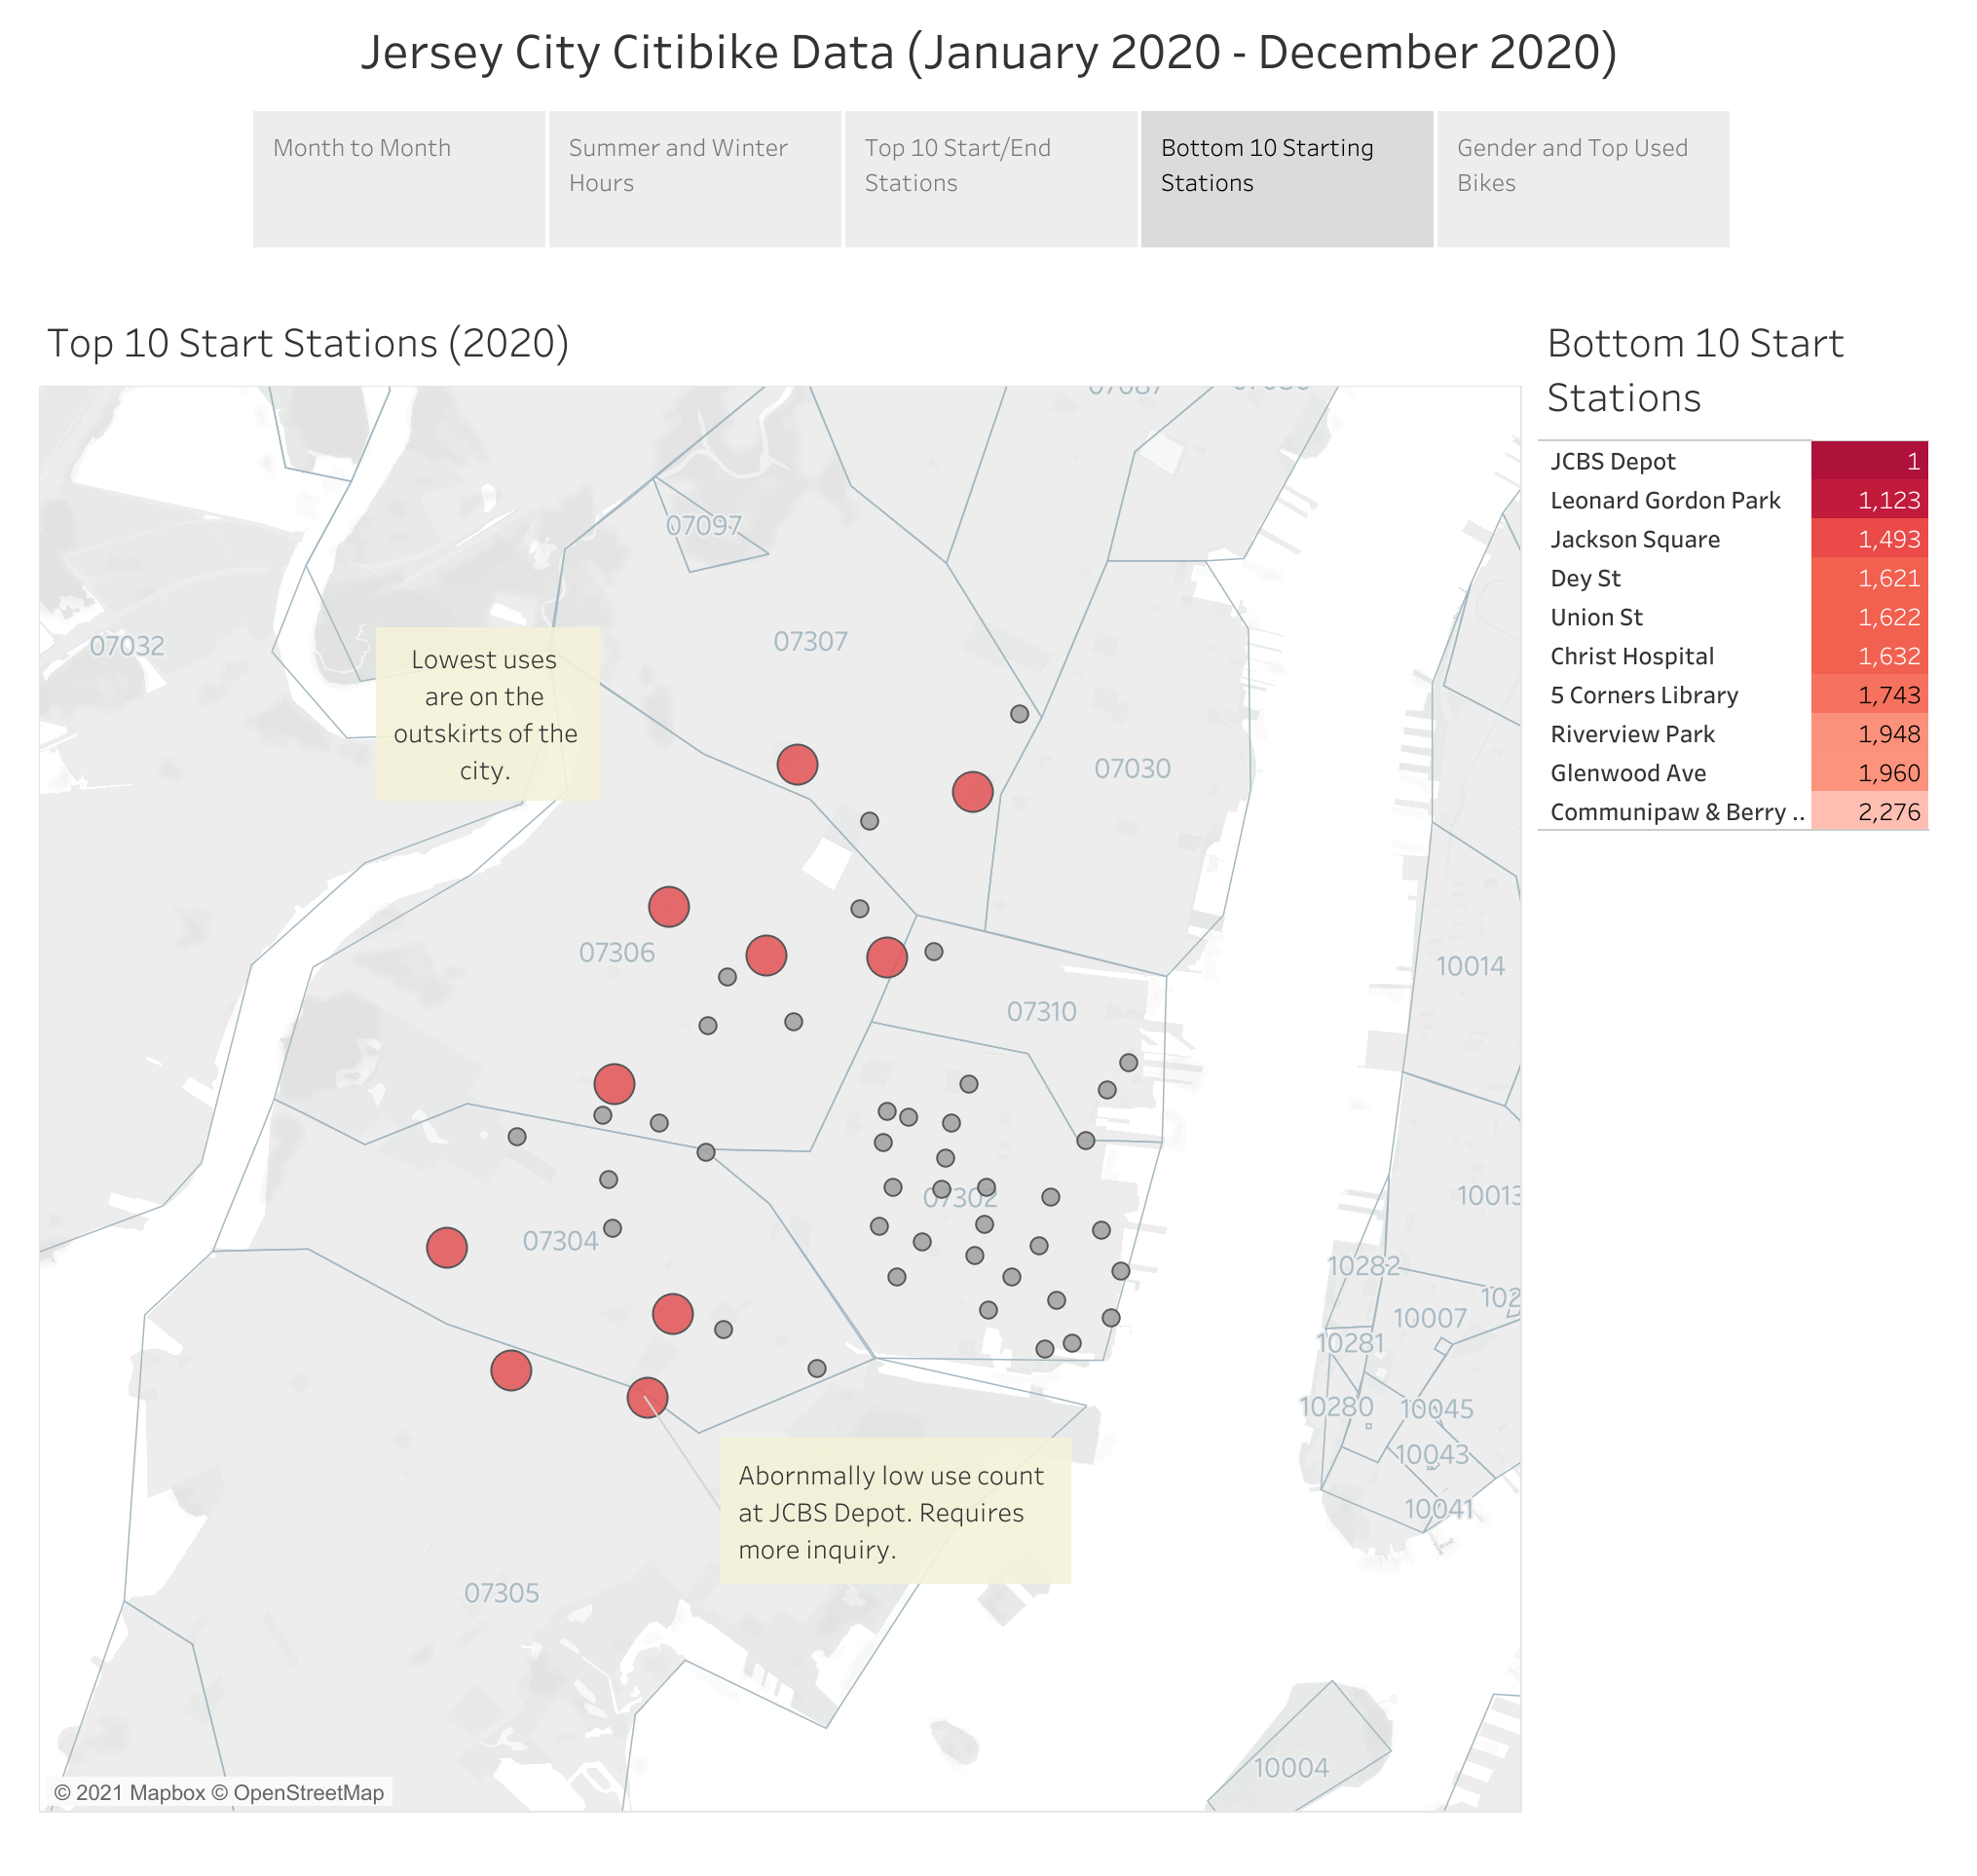

The dashboard page shown, as its layout file describes it:
{"tool":"tableau","page":{"name":"Bottom 10 Star Stations","canvas":[1000,800],"ordinal":1},"visuals":[{"type":"worksheet","box":[0,0,1000,800]},{"type":"worksheet","param":"horz","box":[8,8,984,784]},{"type":"worksheet","box":[8,8,984,784]},{"type":"worksheet","title":"Bottom 10 Start Stations (2020)","mark":"Circle","rows":["start station latitude"],"cols":["start station longitude"],"box":[8,8,770,784]},{"type":"worksheet","title":"Bottom 10 Start Stations","mark":"Square","rows":["start station name"],"box":[778,8,214,784]}]}

Visuals, with their boxes on the page's 1000x800 design canvas (x1, y1, x2, y2). These are canvas units, not pixel positions in the 1977x1876 screenshot, which may show the page scaled, cropped or inside an application window:
worksheet: 0/0/1000/800
worksheet: 8/8/992/792
worksheet: 8/8/992/792
"Bottom 10 Start Stations (2020)" worksheet (Circle marks): 8/8/778/792
"Bottom 10 Start Stations" worksheet (Square marks): 778/8/992/792
